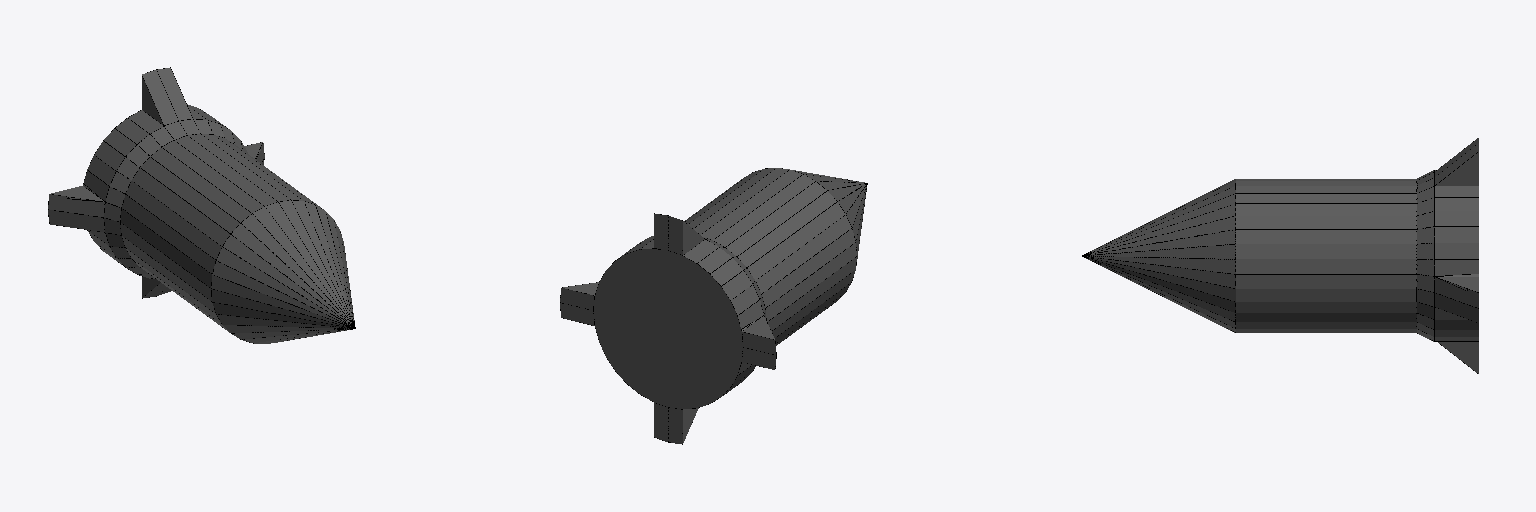
3 views of the same model, side by side, from view 1: azimuth 30°, elevation 25°; view 2: azimuth 150°, elevation 25°; view 3: azimuth 270°, elevation 25° (orthographic).
Parts seen in each view (by area): view 1: small_missle_Cone; view 2: small_missle_Cone; view 3: small_missle_Cone.
Part boxes in pixels (left/top/right/bottom): small_missle_Cone: left=48, top=67, right=355, bottom=343; small_missle_Cone: left=560, top=168, right=867, bottom=444; small_missle_Cone: left=1082, top=138, right=1478, bottom=373.
Bounding box in the file's own units: 0.3231 × 0.3231 × 0.5142.
Materials: 1 (1 with a texture image).